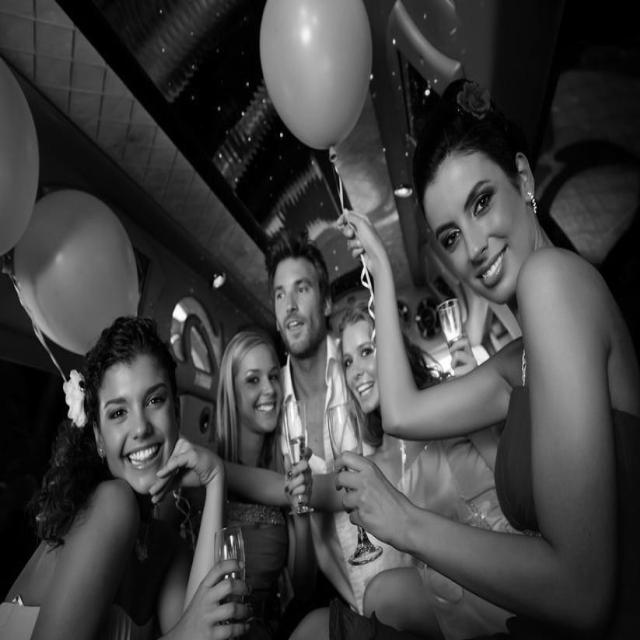person: (350, 57, 640, 624), (0, 315, 292, 639), (272, 229, 379, 633), (202, 322, 304, 627), (329, 297, 396, 488)
